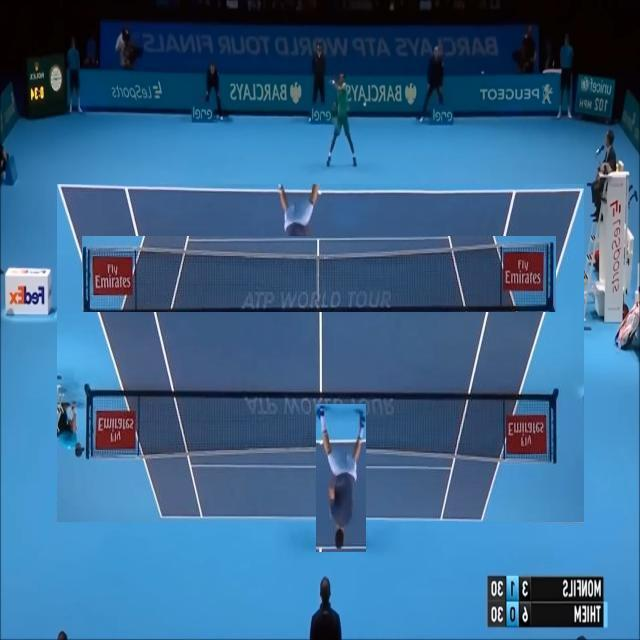court: (57, 185, 584, 522)
net: (82, 236, 556, 312)
player: (316, 404, 366, 552)
